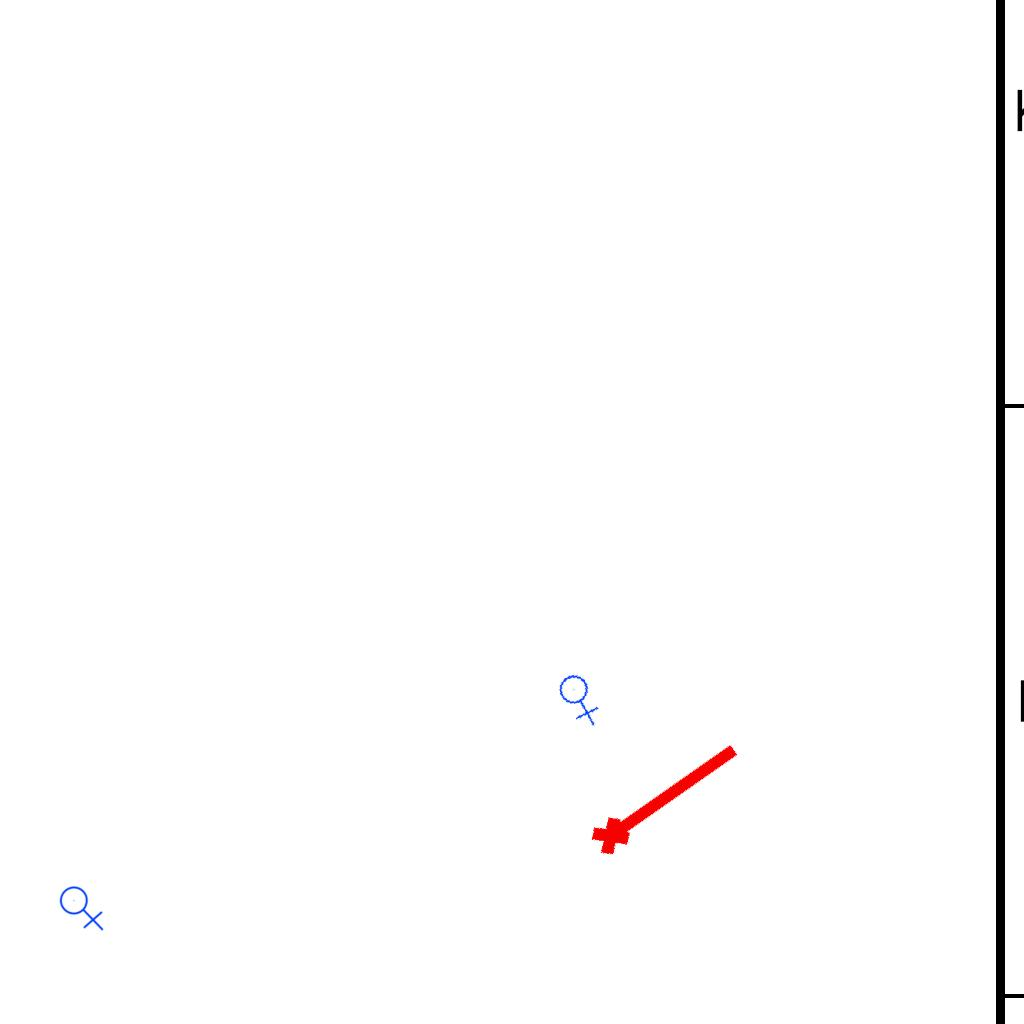ASR_Ansaugoeffnung: (579, 725, 751, 865)
Elektroanschluss_allgemein_230V_Geraeteanschlussdose_230V: (551, 667, 610, 728), (59, 882, 106, 931)
